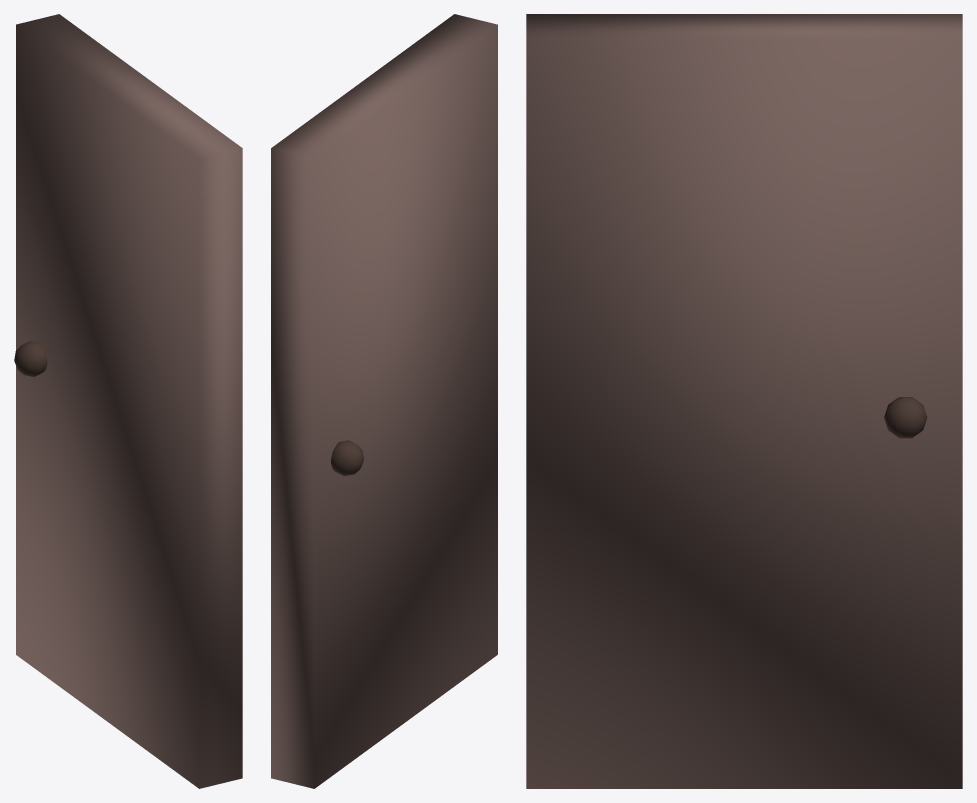
Rendered from Door.fbx.
3 renders of one model, left to right at view 1: azimuth 30°, elevation 25°; view 2: azimuth 150°, elevation 25°; view 3: azimuth 270°, elevation 25°, orthographic. The views are drawn at different scales.
Visible parts, largest first — view 1: Cube; view 2: Cube; view 3: Cube.
Part boxes in pixels (x1=…): Cube: x1=14, y1=14, x2=242, y2=788; Cube: x1=271, y1=14, x2=497, y2=788; Cube: x1=526, y1=14, x2=962, y2=788.
Bounding box in the file's own units: 144 × 996 × 526.
